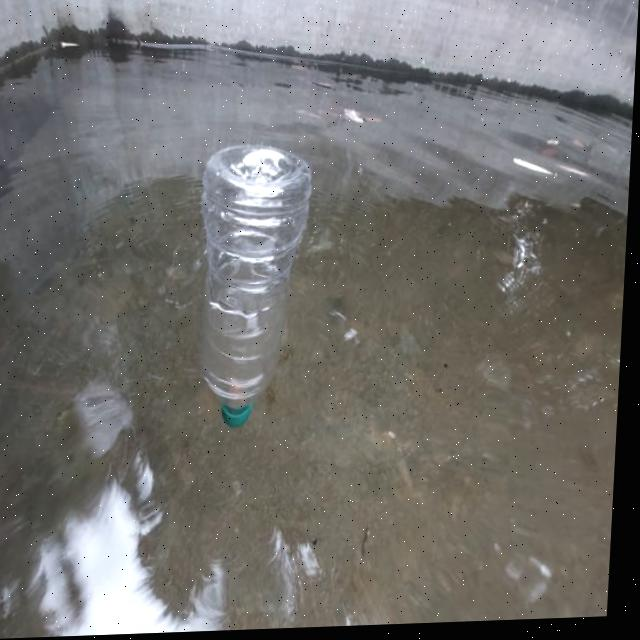waterbottle: (163, 136, 333, 448)
